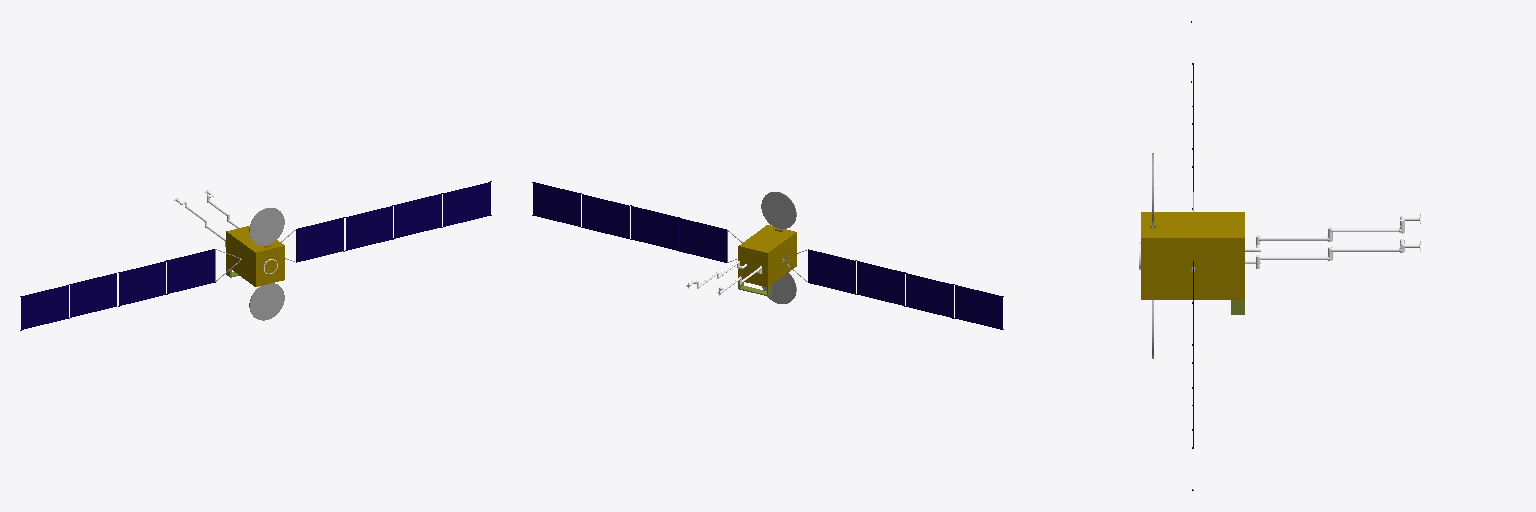
--- Render facts (derived) ---
3 views of the same robot in one strip: view 1: azimuth 30°, elevation 25°; view 2: azimuth 150°, elevation 25°; view 3: azimuth 270°, elevation 25° (orthographic).
Robot: space_robot_with_mass_6 — 21 links, 20 joints (14 revolute, 6 fixed); root link base_link; default pose: every joint at zero.
Links seen in each view (by area): view 1: fan_ban, base_link, tian_xian; view 2: fan_ban, base_link, tian_xian; view 3: base_link.
Boxes of the visible links, box(x1,y1,x2,y2) form: fan_ban: box(20, 181, 491, 330); base_link: box(226, 226, 284, 286); tian_xian: box(249, 208, 284, 320); fan_ban: box(532, 182, 1003, 329); base_link: box(738, 225, 796, 287); tian_xian: box(761, 192, 796, 303); base_link: box(1141, 212, 1244, 299).
Size in the robot's own frame: 33.62 by 9.8 by 7.62 metres.
Meshes: 21 distinct files referenced, 21 mesh visuals loaded (21 binary STL).

The robot description file, URDF, robot "space_robot_with_mass_6":
<?xml version="1.0" encoding="utf-8"?>
<!-- This URDF was automatically created by SolidWorks to URDF Exporter! Originally created by Stephen Brawner ([email redacted]) 
     Commit Version: 1.6.0-4-g7f85cfe  Build Version: 1.6.7995.38578
     For more information, please see http://wiki.ros.org/sw_urdf_exporter -->
<robot
  name="space_robot_with_mass_6">
  <link
    name="base_link">
    <inertial>
      <origin
        xyz="-9.00356053564123E-17 1.79838821175729 3.16587126579944E-07"
        rpy="0 0 0" />
      <mass
        value="3572.09724355866" />
      <inertia
        ixx="5523.64508879556"
        ixy="-2.08395206732234E-13"
        ixz="-4.54747350886464E-13"
        iyy="2973.53008881627"
        iyz="-0.00202044353913153"
        izz="5172.62916503173" />
    </inertial>
    <visual>
      <origin
        xyz="0 0 0"
        rpy="0 0 0" />
      <geometry>
        <mesh
          filename="package://space_robot_with_mass_6/meshes/base_link.STL" />
      </geometry>
      <material
        name="base_color">
        <color
          rgba="0.67451 0.564706 0.027451 1" />
      </material>
    </visual>
    <collision>
      <origin
        xyz="0 0 0"
        rpy="0 0 0" />
      <geometry>
        <mesh
          filename="package://space_robot_with_mass_6/meshes/base_link.STL" />
      </geometry>
    </collision>
  </link>
  <link
    name="link11">
    <inertial>
      <origin
        xyz="0.0139589988723161 0.288910720332332 1.17995692242023E-06"
        rpy="0 0 0" />
      <mass
        value="12.684803088495" />
      <inertia
        ixx="0.349662863891678"
        ixy="-0.028524463849941"
        ixz="6.84881709678287E-09"
        iyy="0.0560321841890966"
        iyz="7.87872878483392E-09"
        izz="0.364300355657848" />
    </inertial>
    <visual>
      <origin
        xyz="0 0 0"
        rpy="0 0 0" />
      <geometry>
        <mesh
          filename="package://space_robot_with_mass_6/meshes/link11.STL" />
      </geometry>
      <material
        name="link_color">
        <color
          rgba="1 1 1 1" />
      </material>
    </visual>
    <collision>
      <origin
        xyz="0 0 0"
        rpy="0 0 0" />
      <geometry>
        <mesh
          filename="package://space_robot_with_mass_6/meshes/link11.STL" />
      </geometry>
    </collision>
  </link>
  <joint
    name="joint11"
    type="revolute">
    <origin
      xyz="-0.5 3.6 0"
      rpy="3.14159265358979 0 3.14159265358979" />
    <parent
      link="base_link" />
    <child
      link="link11" />
    <axis
      xyz="0 -1 0" />
    <limit
      lower="-6.29"
      upper="6.29"
      effort="10000"
      velocity="10000" />
  </joint>
  <link
    name="link12">
    <inertial>
      <origin
        xyz="1.13077864405398E-07 -0.0146135010774783 0.128118042898427"
        rpy="0 0 0" />
      <mass
        value="6.05604337277493" />
      <inertia
        ixx="0.0427082180928243"
        ixy="6.06936033985546E-10"
        ixz="-1.9157829127349E-09"
        iyy="0.0321841379686138"
        iyz="0.00260021650322435"
        izz="0.0307252274019897" />
    </inertial>
    <visual>
      <origin
        xyz="0 0 0"
        rpy="0 0 0" />
      <geometry>
        <mesh
          filename="package://space_robot_with_mass_6/meshes/link12.STL" />
      </geometry>
      <material
        name="link_color">
        <color
          rgba="1 1 1 1" />
      </material>
    </visual>
    <collision>
      <origin
        xyz="0 0 0"
        rpy="0 0 0" />
      <geometry>
        <mesh
          filename="package://space_robot_with_mass_6/meshes/link12.STL" />
      </geometry>
    </collision>
  </link>
  <joint
    name="joint12"
    type="revolute">
    <origin
      xyz="0.1425 0.450000000000001 0"
      rpy="1.5707963267949 0 1.5707963267949" />
    <parent
      link="link11" />
    <child
      link="link12" />
    <axis
      xyz="0 0 -1" />
    <limit
      lower="-6.29"
      upper="6.29"
      effort="10000"
      velocity="10000" />
  </joint>
  <link
    name="link13">
    <inertial>
      <origin
        xyz="1.24999996696967 -6.39459052376168E-09 0.160000004264983"
        rpy="0 0 0" />
      <mass
        value="28.827223587067" />
      <inertia
        ixx="0.116404404176382"
        ixy="-1.37447174862085E-08"
        ixz="-0.00224063018408454"
        iyy="8.14424388971692"
        iyz="-2.0777083609147E-08"
        izz="8.10849534861087" />
    </inertial>
    <visual>
      <origin
        xyz="0 0 0"
        rpy="0 0 0" />
      <geometry>
        <mesh
          filename="package://space_robot_with_mass_6/meshes/link13.STL" />
      </geometry>
      <material
        name="link_color">
        <color
          rgba="1 1 1 1" />
      </material>
    </visual>
    <collision>
      <origin
        xyz="0 0 0"
        rpy="0 0 0" />
      <geometry>
        <mesh
          filename="package://space_robot_with_mass_6/meshes/link13.STL" />
      </geometry>
    </collision>
  </link>
  <joint
    name="joint13"
    type="revolute">
    <origin
      xyz="0 -0.13 0.1575"
      rpy="1.5707963267949 0 0" />
    <parent
      link="link12" />
    <child
      link="link13" />
    <axis
      xyz="0 0 -1" />
    <limit
      lower="-6.29"
      upper="6.29"
      effort="10000"
      velocity="10000" />
  </joint>
  <link
    name="link14">
    <inertial>
      <origin
        xyz="1.24999999986854 -2.06468520058678E-09 0.159999999994664"
        rpy="0 0 0" />
      <mass
        value="28.8272244227313" />
      <inertia
        ixx="0.116404414329493"
        ixy="-1.44868603753309E-09"
        ixz="-0.0022406311528142"
        iyy="8.14424388581765"
        iyz="-1.14351883517827E-09"
        izz="8.10849536292046" />
    </inertial>
    <visual>
      <origin
        xyz="0 0 0"
        rpy="0 0 0" />
      <geometry>
        <mesh
          filename="package://space_robot_with_mass_6/meshes/link14.STL" />
      </geometry>
      <material
        name="link_color">
        <color
          rgba="1 1 1 1" />
      </material>
    </visual>
    <collision>
      <origin
        xyz="0 0 0"
        rpy="0 0 0" />
      <geometry>
        <mesh
          filename="package://space_robot_with_mass_6/meshes/link14.STL" />
      </geometry>
    </collision>
  </link>
  <joint
    name="joint14"
    type="revolute">
    <origin
      xyz="2.5 0 0.320000000000001"
      rpy="0 0 0" />
    <parent
      link="link13" />
    <child
      link="link14" />
    <axis
      xyz="0 0 -1" />
    <limit
      lower="-6.29"
      upper="6.29"
      effort="10000"
      velocity="10000" />
  </joint>
  <link
    name="link15">
    <inertial>
      <origin
        xyz="-1.13077865293576E-07 -0.0293819571015737 0.115386498922522"
        rpy="0 0 0" />
      <mass
        value="6.05604337277495" />
      <inertia
        ixx="0.0427082284539242"
        ixy="-9.17235432668821E-09"
        ixz="1.90554319098234E-08"
        iyy="0.0307252251714581"
        iyz="0.00260021667195721"
        izz="0.0321841303669558" />
    </inertial>
    <visual>
      <origin
        xyz="0 0 0"
        rpy="0 0 0" />
      <geometry>
        <mesh
          filename="package://space_robot_with_mass_6/meshes/link15.STL" />
      </geometry>
      <material
        name="link_color">
        <color
          rgba="1 1 1 1" />
      </material>
    </visual>
    <collision>
      <origin
        xyz="0 0 0"
        rpy="0 0 0" />
      <geometry>
        <mesh
          filename="package://space_robot_with_mass_6/meshes/link15.STL" />
      </geometry>
    </collision>
  </link>
  <joint
    name="joint15"
    type="revolute">
    <origin
      xyz="2.5 0 0.319999999999999"
      rpy="0 0 3.14159265358979" />
    <parent
      link="link14" />
    <child
      link="link15" />
    <axis
      xyz="0 0 -1" />
    <limit
      lower="-6.29"
      upper="6.29"
      effort="10000"
      velocity="10000" />
  </joint>
  <link
    name="link16">
    <inertial>
      <origin
        xyz="-1.08613429361526E-09 -0.152146137684403 0.141504938606177"
        rpy="0 0 0" />
      <mass
        value="9.50180783986666" />
      <inertia
        ixx="0.134537923751239"
        ixy="-2.31388708993025E-09"
        ixz="2.70478184641321E-09"
        iyy="0.0462078073016145"
        iyz="0.00112031558358884"
        izz="0.116663662311257" />
    </inertial>
    <visual>
      <origin
        xyz="0 0 0"
        rpy="0 0 0" />
      <geometry>
        <mesh
          filename="package://space_robot_with_mass_6/meshes/link16.STL" />
      </geometry>
      <material
        name="link_color">
        <color
          rgba="1 1 1 1" />
      </material>
    </visual>
    <collision>
      <origin
        xyz="0 0 0"
        rpy="0 0 0" />
      <geometry>
        <mesh
          filename="package://space_robot_with_mass_6/meshes/link16.STL" />
      </geometry>
    </collision>
  </link>
  <joint
    name="joint16"
    type="revolute">
    <origin
      xyz="0 -0.15 0.13"
      rpy="1.5707963267949 1.5707963267949 0" />
    <parent
      link="link15" />
    <child
      link="link16" />
    <axis
      xyz="0 0 -1" />
    <limit
      lower="-6.29"
      upper="6.29"
      effort="10000"
      velocity="10000" />
  </joint>
  <link
    name="link17">
    <inertial>
      <origin
        xyz="-2.22044604925031E-16 -8.88178419700125E-16 0.729509158225056"
        rpy="0 0 0" />
      <mass
        value="0.647217804415179" />
      <inertia
        ixx="0.00367669165554127"
        ixy="1.70219741080224E-17"
        ixz="5.63047406605115E-19"
        iyy="0.00367669165554127"
        iyz="1.49214430095538E-18"
        izz="0.00720862116414548" />
    </inertial>
    <visual>
      <origin
        xyz="0 0 0"
        rpy="0 0 0" />
      <geometry>
        <mesh
          filename="package://space_robot_with_mass_6/meshes/link17.STL" />
      </geometry>
      <material
        name="link_color">
        <color
          rgba="1 1 1 1" />
      </material>
    </visual>
    <collision>
      <origin
        xyz="0 0 0"
        rpy="0 0 0" />
      <geometry>
        <mesh
          filename="package://space_robot_with_mass_6/meshes/link17.STL" />
      </geometry>
    </collision>
  </link>
  <joint
    name="joint17"
    type="revolute">
    <origin
      xyz="0 0.109999999999999 0.159999999999985"
      rpy="-1.5707963267949 0 -3.14159265358979" />
    <parent
      link="link16" />
    <child
      link="link17" />
    <axis
      xyz="0 0 1" />
    <limit
      lower="-6.29"
      upper="6.29"
      effort="10000"
      velocity="10000" />
  </joint>
  <link
    name="link21">
    <inertial>
      <origin
        xyz="-1.17995692236472E-06 -0.0139589988723158 0.288910720332332"
        rpy="0 0 0" />
      <mass
        value="12.684803088495" />
      <inertia
        ixx="0.364300355657849"
        ixy="6.84881712453844E-09"
        ixz="-7.8787288947773E-09"
        iyy="0.349662863891678"
        iyz="0.0285244638499411"
        izz="0.0560321841890966" />
    </inertial>
    <visual>
      <origin
        xyz="0 0 0"
        rpy="0 0 0" />
      <geometry>
        <mesh
          filename="package://space_robot_with_mass_6/meshes/link21.STL" />
      </geometry>
      <material
        name="link_color">
        <color
          rgba="1 1 1 1" />
      </material>
    </visual>
    <collision>
      <origin
        xyz="0 0 0"
        rpy="0 0 0" />
      <geometry>
        <mesh
          filename="package://space_robot_with_mass_6/meshes/link21.STL" />
      </geometry>
    </collision>
  </link>
  <joint
    name="joint21"
    type="revolute">
    <origin
      xyz="0.5 3.6 0"
      rpy="-1.5707963267949 1.5707963267949 0" />
    <parent
      link="base_link" />
    <child
      link="link21" />
    <axis
      xyz="0 0 -1" />
    <limit
      lower="-6.29"
      upper="6.29"
      effort="10000"
      velocity="10000" />
  </joint>
  <link
    name="link22">
    <inertial>
      <origin
        xyz="-3.63059735164484E-07 0.0146132845418808 0.133118142481952"
        rpy="0 0 0" />
      <mass
        value="6.05604801044192" />
      <inertia
        ixx="0.0427083348601435"
        ixy="-4.00423332146873E-07"
        ixz="-2.51541833861621E-07"
        iyy="0.032183974264958"
        iyz="-0.00260020937854201"
        izz="0.0307251610971737" />
    </inertial>
    <visual>
      <origin
        xyz="0 0 0"
        rpy="0 0 0" />
      <geometry>
        <mesh
          filename="package://space_robot_with_mass_6/meshes/link22.STL" />
      </geometry>
      <material
        name="link_color">
        <color
          rgba="1 1 1 1" />
      </material>
    </visual>
    <collision>
      <origin
        xyz="0 0 0"
        rpy="0 0 0" />
      <geometry>
        <mesh
          filename="package://space_robot_with_mass_6/meshes/link22.STL" />
      </geometry>
    </collision>
  </link>
  <joint
    name="joint22"
    type="revolute">
    <origin
      xyz="0 -0.1375 0.450000000000001"
      rpy="1.5707963267949 -1.5707963267949 0" />
    <parent
      link="link21" />
    <child
      link="link22" />
    <axis
      xyz="0 0 -1" />
    <limit
      lower="-6.29"
      upper="6.29"
      effort="10000"
      velocity="10000" />
  </joint>
  <link
    name="link23">
    <inertial>
      <origin
        xyz="1.24999996696967 -6.39459063478398E-09 0.160000004264983"
        rpy="0 0 0" />
      <mass
        value="28.827223587067" />
      <inertia
        ixx="0.116404404176382"
        ixy="-1.37447173919075E-08"
        ixz="-0.00224063018408426"
        iyy="8.14424388971694"
        iyz="-2.07770831650578E-08"
        izz="8.10849534861089" />
    </inertial>
    <visual>
      <origin
        xyz="0 0 0"
        rpy="0 0 0" />
      <geometry>
        <mesh
          filename="package://space_robot_with_mass_6/meshes/link23.STL" />
      </geometry>
      <material
        name="link_color">
        <color
          rgba="1 1 1 1" />
      </material>
    </visual>
    <collision>
      <origin
        xyz="0 0 0"
        rpy="0 0 0" />
      <geometry>
        <mesh
          filename="package://space_robot_with_mass_6/meshes/link23.STL" />
      </geometry>
    </collision>
  </link>
  <joint
    name="joint23"
    type="revolute">
    <origin
      xyz="0 0.13 0.1625"
      rpy="-1.5707963267949 0 0" />
    <parent
      link="link22" />
    <child
      link="link23" />
    <axis
      xyz="0 0 1" />
    <limit
      lower="-6.29"
      upper="6.29"
      effort="10000"
      velocity="10000" />
  </joint>
  <link
    name="link24">
    <inertial>
      <origin
        xyz="1.24999999986855 -2.06468386831915E-09 0.159999999994666"
        rpy="0 0 0" />
      <mass
        value="28.8272244227313" />
      <inertia
        ixx="0.116404414329493"
        ixy="-1.44868487670242E-09"
        ixz="-0.00224063115283688"
        iyy="8.14424388581765"
        iyz="-1.14351927926748E-09"
        izz="8.10849536292045" />
    </inertial>
    <visual>
      <origin
        xyz="0 0 0"
        rpy="0 0 0" />
      <geometry>
        <mesh
          filename="package://space_robot_with_mass_6/meshes/link24.STL" />
      </geometry>
      <material
        name="link_color">
        <color
          rgba="1 1 1 1" />
      </material>
    </visual>
    <collision>
      <origin
        xyz="0 0 0"
        rpy="0 0 0" />
      <geometry>
        <mesh
          filename="package://space_robot_with_mass_6/meshes/link24.STL" />
      </geometry>
    </collision>
  </link>
  <joint
    name="joint24"
    type="revolute">
    <origin
      xyz="2.5 0 0.32"
      rpy="0 0 0" />
    <parent
      link="link23" />
    <child
      link="link24" />
    <axis
      xyz="0 0 1" />
    <limit
      lower="-6.29"
      upper="6.29"
      effort="10000"
      velocity="10000" />
  </joint>
  <link
    name="link25">
    <inertial>
      <origin
        xyz="-3.6305973161177E-07 0.0293818575180548 -0.11538671545813"
        rpy="0 0 0" />
      <mass
        value="6.05604801044194" />
      <inertia
        ixx="0.0427083348601437"
        ixy="2.51541833821263E-07"
        ixz="-4.00423332188971E-07"
        iyy="0.0307251610971738"
        iyz="0.00260020937854203"
        izz="0.0321839742649581" />
    </inertial>
    <visual>
      <origin
        xyz="0 0 0"
        rpy="0 0 0" />
      <geometry>
        <mesh
          filename="package://space_robot_with_mass_6/meshes/link25.STL" />
      </geometry>
      <material
        name="link_color">
        <color
          rgba="1 1 1 1" />
      </material>
    </visual>
    <collision>
      <origin
        xyz="0 0 0"
        rpy="0 0 0" />
      <geometry>
        <mesh
          filename="package://space_robot_with_mass_6/meshes/link25.STL" />
      </geometry>
    </collision>
  </link>
  <joint
    name="joint25"
    type="revolute">
    <origin
      xyz="2.5 0 0.319999999999995"
      rpy="3.14159265358979 0 0" />
    <parent
      link="link24" />
    <child
      link="link25" />
    <axis
      xyz="0 0 -1" />
    <limit
      lower="-6.29"
      upper="6.29"
      effort="10000"
      velocity="10000" />
  </joint>
  <link
    name="link26">
    <inertial>
      <origin
        xyz="-1.08613895655196E-09 0.152146137684404 -0.134504938606191"
        rpy="0 0 0" />
      <mass
        value="9.50180783986661" />
      <inertia
        ixx="0.134537923751239"
        ixy="2.31388721159875E-09"
        ixz="-2.70478187763823E-09"
        iyy="0.0462078073016141"
        iyz="0.00112031558358871"
        izz="0.116663662311257" />
    </inertial>
    <visual>
      <origin
        xyz="0 0 0"
        rpy="0 0 0" />
      <geometry>
        <mesh
          filename="package://space_robot_with_mass_6/meshes/link26.STL" />
      </geometry>
      <material
        name="link_color">
        <color
          rgba="1 1 1 1" />
      </material>
    </visual>
    <collision>
      <origin
        xyz="0 0 0"
        rpy="0 0 0" />
      <geometry>
        <mesh
          filename="package://space_robot_with_mass_6/meshes/link26.STL" />
      </geometry>
    </collision>
  </link>
  <joint
    name="joint26"
    type="revolute">
    <origin
      xyz="0 0.157000000000008 -0.129999999999994"
      rpy="1.5707963267949 1.5707963267949 0" />
    <parent
      link="link25" />
    <child
      link="link26" />
    <axis
      xyz="0 0 1" />
    <limit
      lower="-6.29"
      upper="6.29"
      effort="0"
      velocity="0" />
  </joint>
  <link
    name="link27">
    <inertial>
      <origin
        xyz="-4.55191440096314E-15 -8.65973959207622E-15 0.0195091582250573"
        rpy="0 0 0" />
      <mass
        value="0.647217804415177" />
      <inertia
        ixx="0.00367669165554125"
        ixy="1.56125112837913E-17"
        ixz="-1.77026823539441E-20"
        iyy="0.00367669165554128"
        iyz="-2.44435681975225E-18"
        izz="0.00720862116414547" />
    </inertial>
    <visual>
      <origin
        xyz="0 0 0"
        rpy="0 0 0" />
      <geometry>
        <mesh
          filename="package://space_robot_with_mass_6/meshes/link27.STL" />
      </geometry>
      <material
        name="link_color">
        <color
          rgba="1 1 1 1" />
      </material>
    </visual>
    <collision>
      <origin
        xyz="0 0 0"
        rpy="0 0 0" />
      <geometry>
        <mesh
          filename="package://space_robot_with_mass_6/meshes/link27.STL" />
      </geometry>
    </collision>
  </link>
  <joint
    name="joint27"
    type="revolute">
    <origin
      xyz="0 0.599999999999998 -0.153"
      rpy="1.5707963267949 0 -3.14159265358979" />
    <parent
      link="link26" />
    <child
      link="link27" />
    <axis
      xyz="0 0 -1" />
    <limit
      lower="-6.29"
      upper="6.29"
      effort="10000"
      velocity="10000" />
  </joint>
  <link
    name="wei_pen_guan">
    <inertial>
      <origin
        xyz="-8.22052237227863E-17 6.42913924102885E-18 -0.163004078996314"
        rpy="0 0 0" />
      <mass
        value="1.6357458859783" />
      <inertia
        ixx="0.0222430877220275"
        ixy="-2.08166817117217E-17"
        ixz="-3.65601506286931E-18"
        iyy="0.0222430877220274"
        iyz="-2.7451088757104E-18"
        izz="0.0205306390827465" />
    </inertial>
    <visual>
      <origin
        xyz="0 0 0"
        rpy="0 0 0" />
      <geometry>
        <mesh
          filename="package://space_robot_with_mass_6/meshes/wei_pen_guan.STL" />
      </geometry>
      <material
        name="weipenguan_color">
        <color
          rgba="0.811765 0.678431 0.145098 1" />
      </material>
    </visual>
    <collision>
      <origin
        xyz="0 0 0"
        rpy="0 0 0" />
      <geometry>
        <mesh
          filename="package://space_robot_with_mass_6/meshes/wei_pen_guan.STL" />
      </geometry>
    </collision>
  </link>
  <joint
    name="joint_wpg"
    type="fixed">
    <origin
      xyz="0 0 0"
      rpy="1.5707963267949 -1.5707963267949 0" />
    <parent
      link="base_link" />
    <child
      link="wei_pen_guan" />
    <axis
      xyz="0 0 0" />
  </joint>
  <link
    name="dui_jie_huan">
    <inertial>
      <origin
        xyz="1.40215559781522E-16 -4.57868499313872E-16 -0.0562234950584007"
        rpy="0 0 0" />
      <mass
        value="2.41684482132549" />
      <inertia
        ixx="0.283901925954555"
        ixy="9.43689570931383E-16"
        ixz="2.89530907409896E-17"
        iyy="0.283901925954555"
        iyz="3.24895864113793E-17"
        izz="0.563795087041623" />
    </inertial>
    <visual>
      <origin
        xyz="0 0 0"
        rpy="0 0 0" />
      <geometry>
        <mesh
          filename="package://space_robot_with_mass_6/meshes/dui_jie_huan.STL" />
      </geometry>
      <material
        name="duijiehuan_color">
        <color
          rgba="1 1 1 1" />
      </material>
    </visual>
    <collision>
      <origin
        xyz="0 0 0"
        rpy="0 0 0" />
      <geometry>
        <mesh
          filename="package://space_robot_with_mass_6/meshes/dui_jie_huan.STL" />
      </geometry>
    </collision>
  </link>
  <joint
    name="joint_djh"
    type="fixed">
    <origin
      xyz="0 0 0"
      rpy="-1.5707963267949 -1.5707963267949 0" />
    <parent
      link="base_link" />
    <child
      link="dui_jie_huan" />
    <axis
      xyz="0 0 0" />
  </joint>
  <link
    name="wai_ke">
    <inertial>
      <origin
        xyz="0.46064 -1.05 -0.25"
        rpy="0 0 0" />
      <mass
        value="25.12" />
      <inertia
        ixx="15.189"
        ixy="-5.5511E-17"
        ixz="6.1141E-16"
        iyy="1.2206"
        iyz="-4.1385E-15"
        izz="15.363" />
    </inertial>
    <visual>
      <origin
        xyz="0 0 0"
        rpy="0 0 0" />
      <geometry>
        <mesh
          filename="package://space_robot_with_mass_6/meshes/wai_ke.STL" />
      </geometry>
      <material
        name="waike_color">
        <color
          rgba="0.54902 0.619608 0.247059 1" />
      </material>
    </visual>
    <collision>
      <origin
        xyz="0 0 0"
        rpy="0 0 0" />
      <geometry>
        <mesh
          filename="package://space_robot_with_mass_6/meshes/wai_ke.STL" />
      </geometry>
    </collision>
  </link>
  <joint
    name="joint_waike"
    type="fixed">
    <origin
      xyz="-1.05 3.6 -1.18"
      rpy="-1.5707963267949 1.5707963267949 0" />
    <parent
      link="base_link" />
    <child
      link="wai_ke" />
    <axis
      xyz="0 0 0" />
  </joint>
  <link
    name="lian_gan">
    <inertial>
      <origin
        xyz="-1.2582E-09 -1.0557E-08 -1.05"
        rpy="0 0 0" />
      <mass
        value="0.67671" />
      <inertia
        ixx="0.18662"
        ixy="-1.544E-16"
        ixz="1.8507E-07"
        iyy="0.41703"
        iyz="3.1859E-11"
        izz="0.23091" />
    </inertial>
    <visual>
      <origin
        xyz="0 0 0"
        rpy="0 0 0" />
      <geometry>
        <mesh
          filename="package://space_robot_with_mass_6/meshes/lian_gan.STL" />
      </geometry>
      <material
        name="tianxian_liangan_color">
        <color
          rgba="0.701961 0.701961 0.701961 1" />
      </material>
    </visual>
    <collision>
      <origin
        xyz="0 0 0"
        rpy="0 0 0" />
      <geometry>
        <mesh
          filename="package://space_robot_with_mass_6/meshes/lian_gan.STL" />
      </geometry>
    </collision>
  </link>
  <joint
    name="joint_liangan"
    type="fixed">
    <origin
      xyz="-1.05 1.8 0"
      rpy="0 -1.5707963267949 0" />
    <parent
      link="base_link" />
    <child
      link="lian_gan" />
    <axis
      xyz="0 0 0" />
  </joint>
  <link
    name="fan_ban">
    <inertial>
      <origin
        xyz="-2.87705080756888 -0.0187570515069699 -1.145"
        rpy="0 0 0" />
      <mass
        value="46.8038588642526" />
      <inertia
        ixx="20.5342480878624"
        ixy="0.000564259354861095"
        ixz="2.93098878501041E-14"
        iyy="65.789776932767"
        iyz="5.40345300574886E-15"
        izz="45.260486980207" />
    </inertial>
    <visual>
      <origin
        xyz="0 0 0"
        rpy="0 0 0" />
      <geometry>
        <mesh
          filename="package://space_robot_with_mass_6/meshes/fan_ban.STL" />
      </geometry>
      <material
        name="fanban_color">
        <color
          rgba="0.098039 0.039216 0.392157 1" />
      </material>
    </visual>
    <collision>
      <origin
        xyz="0 0 0"
        rpy="0 0 0" />
      <geometry>
        <mesh
          filename="package://space_robot_with_mass_6/meshes/fan_ban.STL" />
      </geometry>
    </collision>
  </link>
  <joint
    name="joint_fanban"
    type="fixed">
    <origin
      xyz="-2.8771 1.8 -1.145"
      rpy="3.1416 0 3.1416" />
    <parent
      link="base_link" />
    <child
      link="fan_ban" />
    <axis
      xyz="0 0 0" />
  </joint>
  <link
    name="tian_xian">
    <inertial>
      <origin
        xyz="1.24 5.5511E-17 -0.3"
        rpy="0 0 0" />
      <mass
        value="49.229" />
      <inertia
        ixx="19.196"
        ixy="-2.2134E-18"
        ixz="-2.6645E-15"
        iyy="38.597"
        iyz="3.1895E-18"
        izz="19.421" />
    </inertial>
    <visual>
      <origin
        xyz="0 0 0"
        rpy="0 0 0" />
      <geometry>
        <mesh
          filename="package://space_robot_with_mass_6/meshes/tian_xian.STL" />
      </geometry>
      <material
        name="liangan_tianxian_color">
        <color
          rgba="0.701961 0.701961 0.701961 1" />
      </material>
    </visual>
    <collision>
      <origin
        xyz="0 0 0"
        rpy="0 0 0" />
      <geometry>
        <mesh
          filename="package://space_robot_with_mass_6/meshes/tian_xian.STL" />
      </geometry>
    </collision>
  </link>
  <joint
    name="joint_tian_xian"
    type="fixed">
    <origin
      xyz="-0.3 0.4 -1.24"
      rpy="0 -1.5708 0" />
    <parent
      link="base_link" />
    <child
      link="tian_xian" />
    <axis
      xyz="0 0 0" />
  </joint>
</robot>
